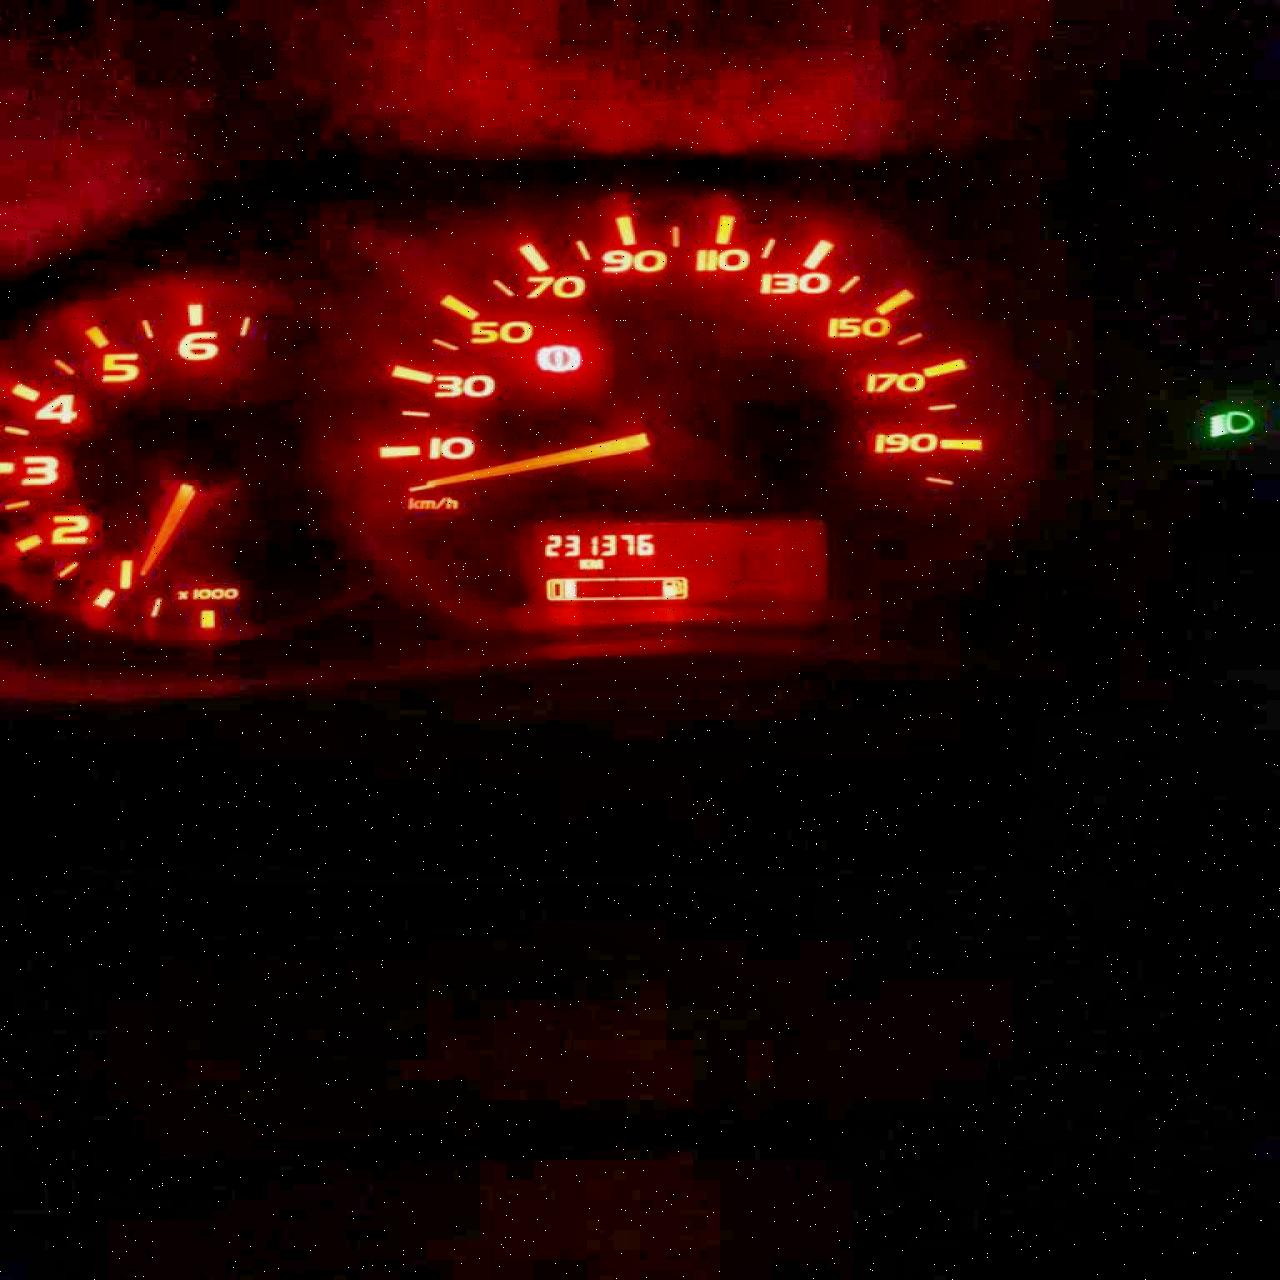1: (588, 533, 599, 557)
2: (543, 533, 561, 557)
3: (564, 532, 580, 557), (600, 533, 617, 556)
6: (635, 533, 653, 556)
7: (619, 533, 633, 556)
X: (588, 558, 604, 568), (579, 557, 588, 568)
odometer: (522, 513, 837, 608)
